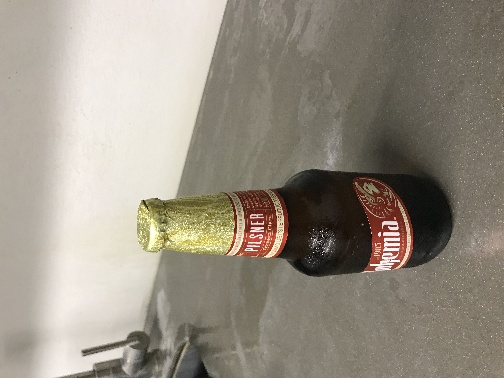BPB: (254, 128, 293, 161), (170, 150, 200, 186)
